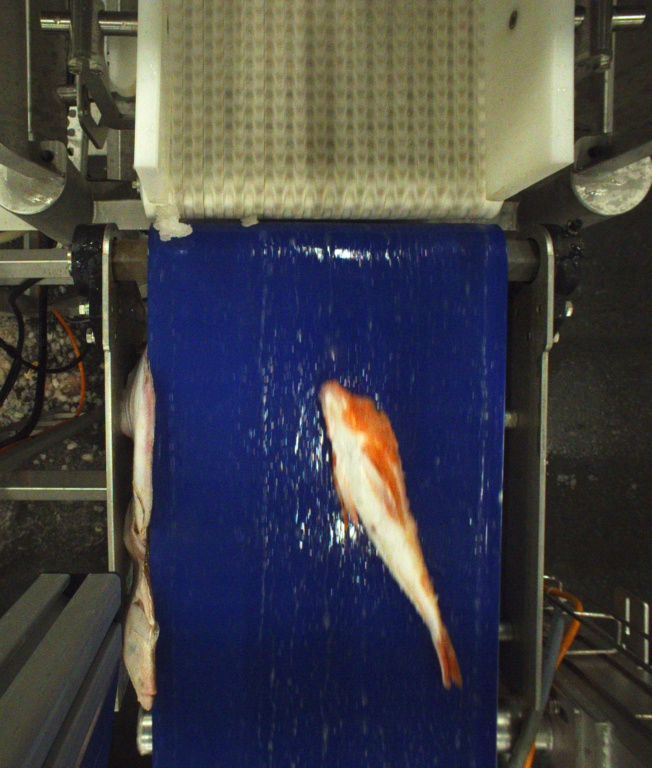GUU: (318, 378, 462, 689)
